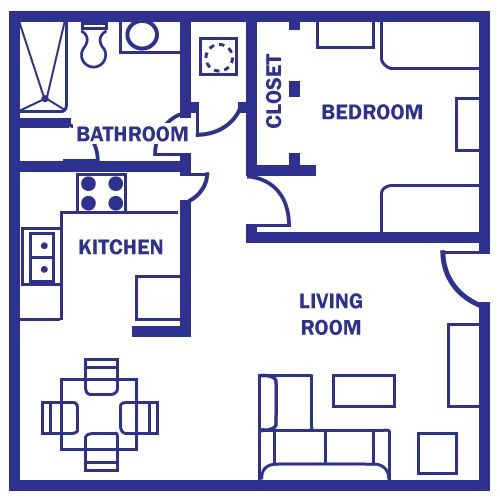door: (420, 243, 495, 309), (243, 173, 299, 232), (188, 97, 249, 150), (146, 107, 196, 160), (174, 167, 215, 207)
room: (247, 242, 498, 498), (247, 15, 498, 246), (11, 166, 191, 339), (6, 8, 191, 162), (18, 341, 198, 476), (191, 16, 254, 340), (188, 338, 262, 490)
wall: (7, 471, 500, 496), (3, 7, 27, 497), (6, 4, 493, 28), (246, 223, 493, 247), (472, 10, 495, 255), (16, 150, 191, 179), (475, 296, 496, 496), (172, 198, 199, 341), (242, 14, 265, 178), (173, 13, 196, 117), (124, 321, 203, 343), (9, 108, 76, 132), (245, 159, 320, 179)
